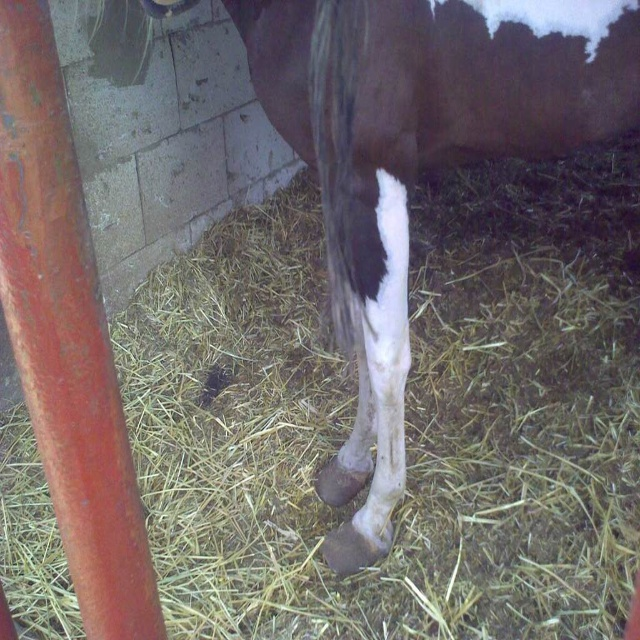Cattle: (227, 9, 574, 553)
